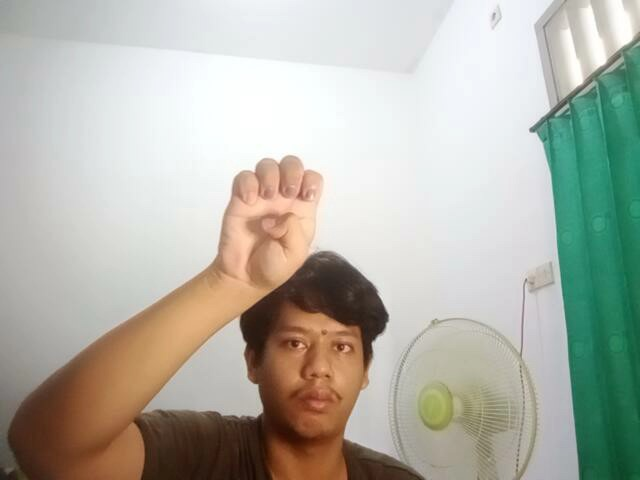E: (211, 144, 330, 290)
